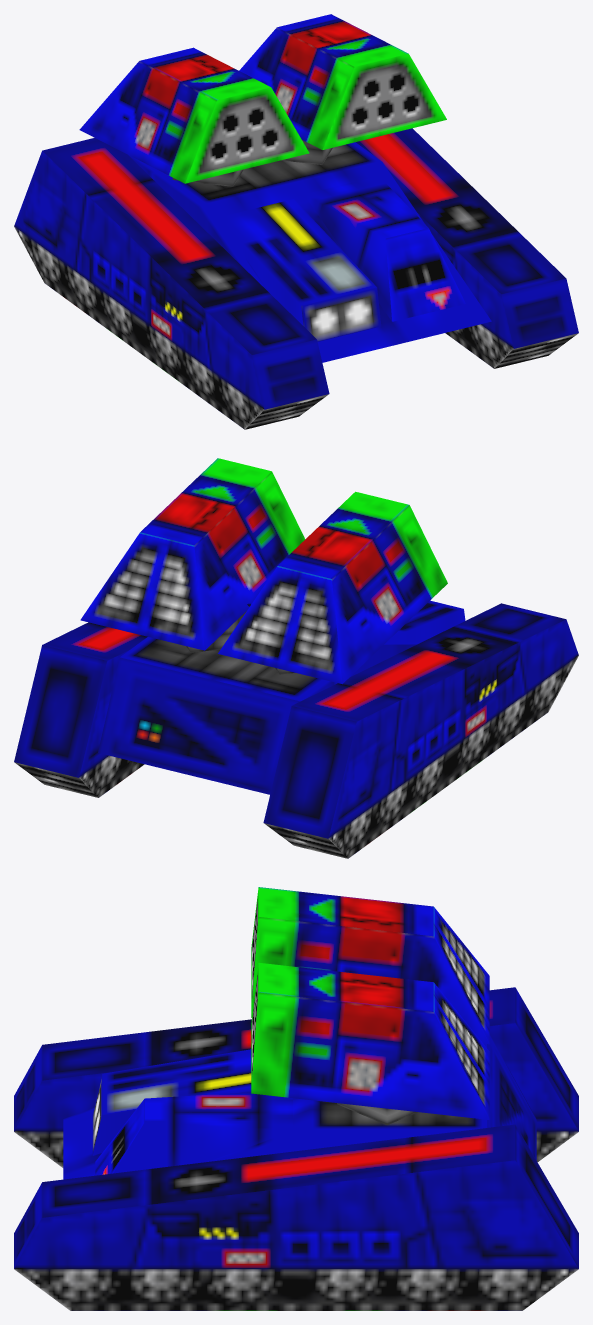
File: hunter.glb
3 renders of one model, top to bottom at view 1: azimuth 30°, elevation 25°; view 2: azimuth 150°, elevation 25°; view 3: azimuth 270°, elevation 25°, orthographic. The views are drawn at different scales.
Parts seen in each view (by area): view 1: Hunter, Hunter_Turret; view 2: Hunter, Hunter_Turret; view 3: Hunter, Hunter_Turret.
Part boxes in pixels (x1,y1,x2,y2): Hunter: [14, 128, 578, 429]; Hunter_Turret: [79, 14, 446, 186]; Hunter: [14, 600, 578, 858]; Hunter_Turret: [80, 458, 447, 684]; Hunter: [14, 987, 578, 1310]; Hunter_Turret: [251, 887, 489, 1125].
Size of the model in its own units: 3.7 by 2.86 by 5.1.
Materials: 1 (1 with a texture image).
